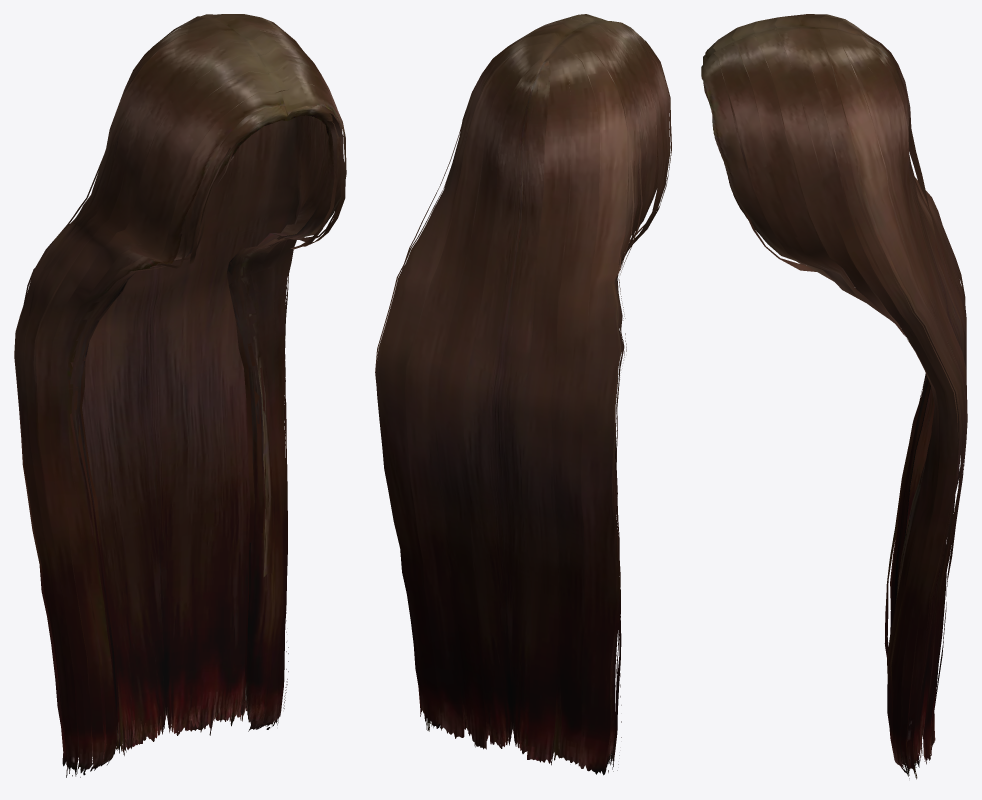
Rendered from female.glb.
3 views of the same model, side by side, from view 1: azimuth 30°, elevation 25°; view 2: azimuth 150°, elevation 25°; view 3: azimuth 270°, elevation 25° (orthographic). The views are drawn at different scales.
Parts seen in each view (by area): view 1: long01; view 2: long01; view 3: long01.
Boxes of the visible parts, left/top/right/bottom form: long01: left=14, top=14, right=346, bottom=777; long01: left=375, top=14, right=671, bottom=775; long01: left=701, top=14, right=967, bottom=779.
Bounding box in the file's own units: 0.2692 × 0.7375 × 0.247.
1 material, 1 textured.
